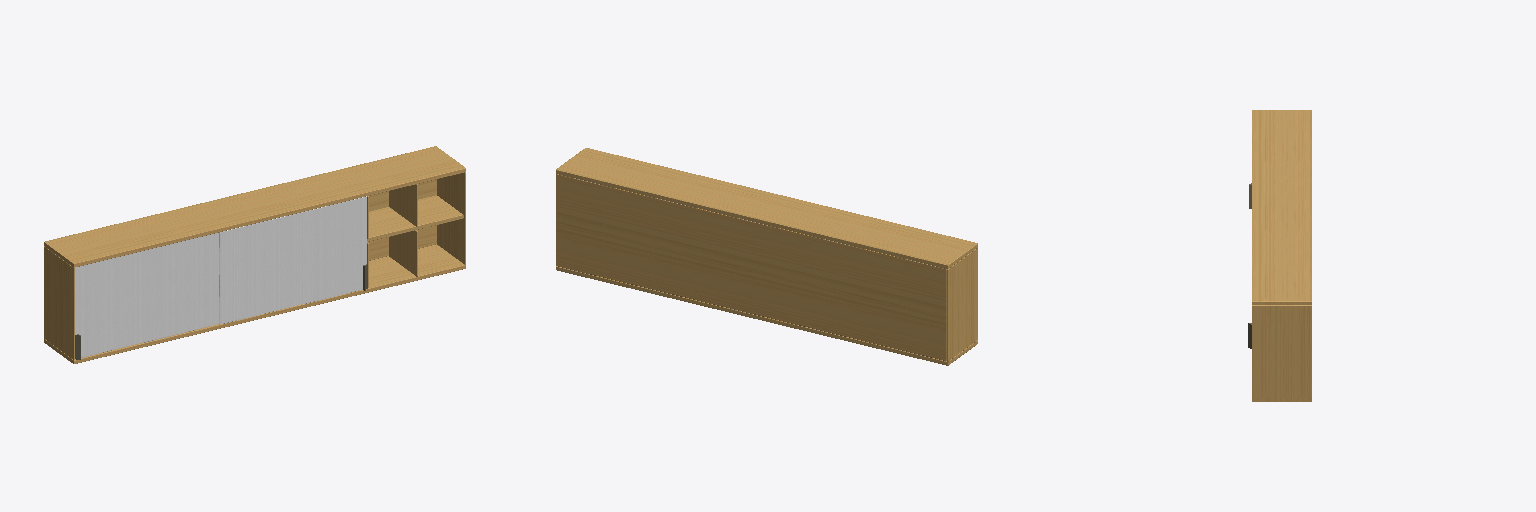
The picture shows the model from 3 angles: view 1: azimuth 30°, elevation 25°; view 2: azimuth 150°, elevation 25°; view 3: azimuth 270°, elevation 25°; orthographic projection.
Size of the model in its own units: 2 by 0.4901 by 0.2866.
Materials: 3 (2 with a texture image).